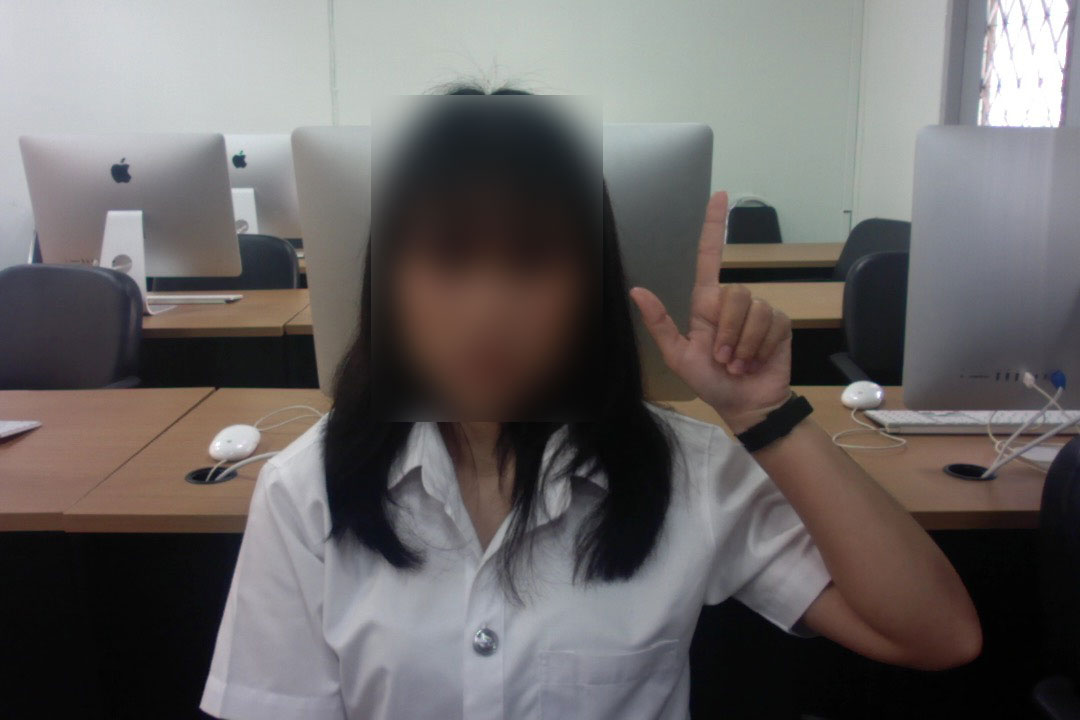lor: (616, 178, 825, 417)
